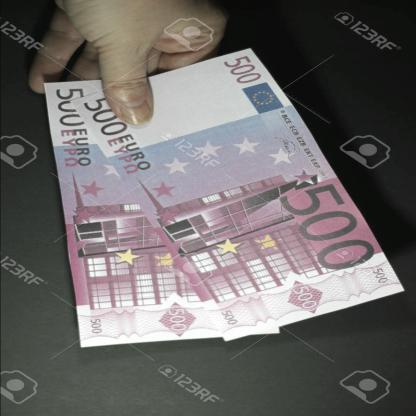euro_banknote: (73, 104, 410, 287)
